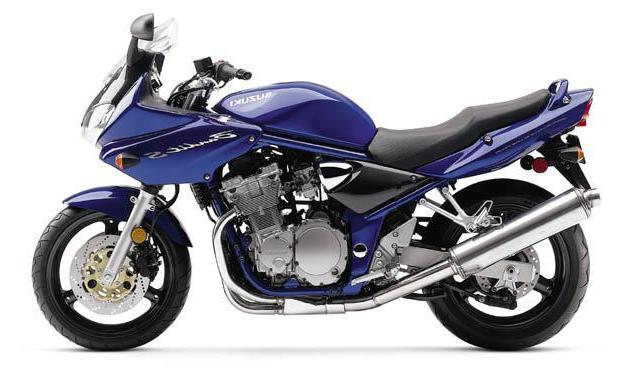motorcycle: (21, 8, 617, 363)
